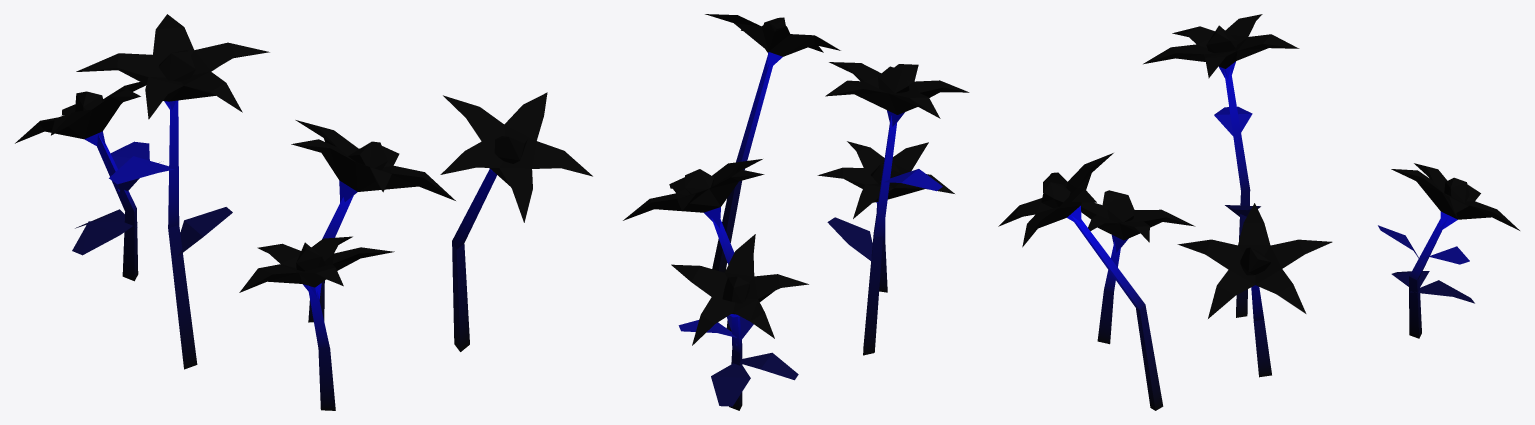
Rendered from PatchSpud03.fbx.
3 renders of one model, left to right at view 1: azimuth 30°, elevation 25°; view 2: azimuth 150°, elevation 25°; view 3: azimuth 270°, elevation 25°, orthographic. The views are drawn at different scales.
Visible parts, largest first — view 1: PatchSpud03; view 2: PatchSpud03; view 3: PatchSpud03.
Boxes of the visible parts, box(x1,y1,x2,y2) form: PatchSpud03: box(15, 14, 592, 410); PatchSpud03: box(623, 14, 969, 410); PatchSpud03: box(998, 14, 1519, 410).
Bounding box in the file's own units: 42.56 × 35.69 × 60.44.
